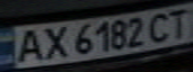1: (90, 19, 115, 53)
2: (124, 14, 151, 47)
6: (72, 20, 96, 56)
8: (109, 16, 133, 51)
A: (9, 26, 48, 64)
C: (145, 10, 175, 43)
T: (163, 6, 193, 38)
X: (36, 24, 72, 61)
